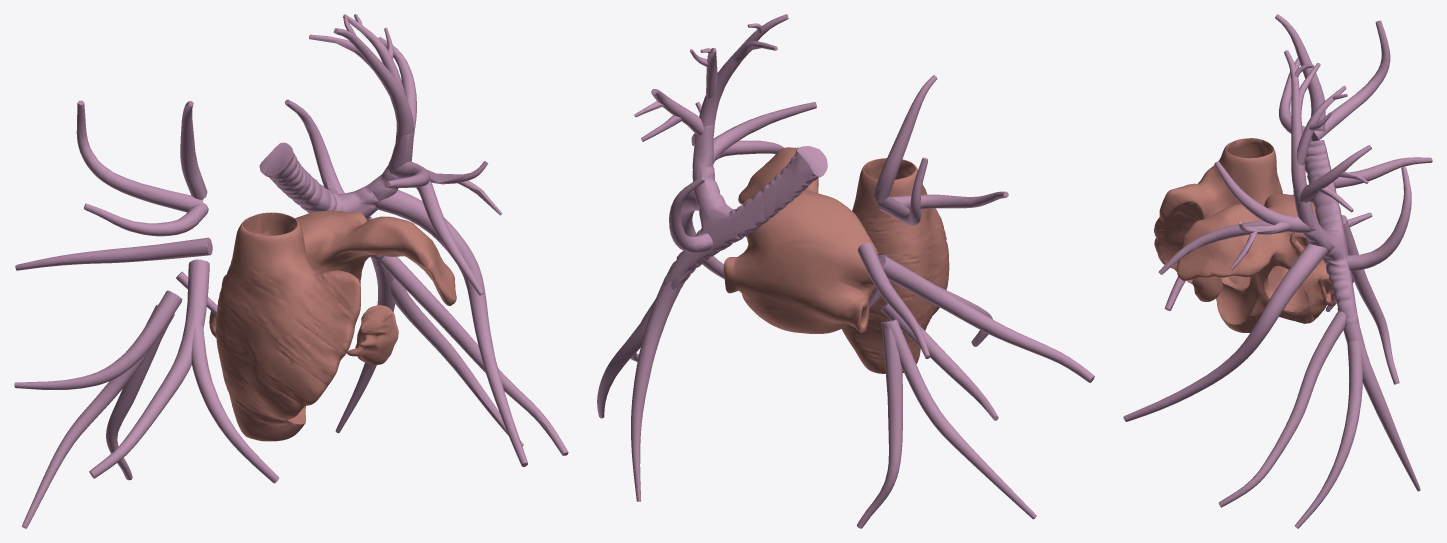
Rendered from thorax-4.glb.
3 renders of one model, left to right at view 1: azimuth 30°, elevation 25°; view 2: azimuth 150°, elevation 25°; view 3: azimuth 270°, elevation 25°, orthographic. The views are drawn at different scales.
Visible parts, largest first — view 1: FJ2439, FJ2438, FJ2450, FJ2441, FJ2449, FJ2442, FJ2452, FJ2459, FJ2458, FJ2445, FJ2451, FJ2455 (+11 smaller); view 2: FJ2438, FJ2439, FJ2450, FJ2449, FJ2446, FJ2455, FJ2457, FJ2454, FJ2459, FJ2452, FJ2444, FJ2443 (+7 smaller); view 3: FJ2439, FJ2438, FJ2450, FJ2441, FJ2442, FJ2445, FJ2446, FJ2457, FJ2458, FJ2448, FJ2444, FJ2443 (+8 smaller).
Part boxes in pixels (x1=…): FJ2439: x1=215, y1=212, x2=360, y2=441; FJ2438: x1=209, y1=210, x2=456, y2=337; FJ2450: x1=259, y1=131, x2=413, y2=267; FJ2441: x1=373, y1=190, x2=527, y2=466; FJ2449: x1=89, y1=259, x2=209, y2=478; FJ2442: x1=379, y1=256, x2=568, y2=455; FJ2452: x1=14, y1=290, x2=182, y2=389; FJ2459: x1=15, y1=237, x2=212, y2=270; FJ2458: x1=76, y1=100, x2=203, y2=212; FJ2445: x1=390, y1=278, x2=523, y2=446; FJ2451: x1=191, y1=325, x2=279, y2=483; FJ2455: x1=22, y1=305, x2=157, y2=528; FJ2438: x1=723, y1=147, x2=878, y2=333; FJ2439: x1=842, y1=158, x2=949, y2=373; FJ2450: x1=663, y1=125, x2=827, y2=290; FJ2449: x1=878, y1=254, x2=1094, y2=382; FJ2446: x1=631, y1=267, x2=685, y2=501; FJ2455: x1=884, y1=319, x2=1036, y2=519; FJ2457: x1=857, y1=320, x2=902, y2=528; FJ2454: x1=873, y1=75, x2=937, y2=202; FJ2459: x1=858, y1=242, x2=929, y2=358; FJ2452: x1=880, y1=302, x2=998, y2=420; FJ2444: x1=697, y1=14, x2=788, y2=167; FJ2443: x1=713, y1=102, x2=816, y2=163; FJ2439: x1=1154, y1=138, x2=1282, y2=332; FJ2438: x1=1177, y1=193, x2=1335, y2=323; FJ2450: x1=1293, y1=140, x2=1358, y2=325; FJ2441: x1=1123, y1=243, x2=1327, y2=421; FJ2442: x1=1218, y1=310, x2=1345, y2=507; FJ2445: x1=1294, y1=340, x2=1362, y2=528; FJ2446: x1=1343, y1=308, x2=1420, y2=491; FJ2457: x1=1342, y1=216, x2=1399, y2=384; FJ2458: x1=1311, y1=20, x2=1390, y2=141; FJ2448: x1=1347, y1=166, x2=1411, y2=271; FJ2444: x1=1284, y1=50, x2=1311, y2=232; FJ2443: x1=1214, y1=161, x2=1310, y2=232.
Bounding box in the file's own units: 0.235 × 0.2235 × 0.1537.
